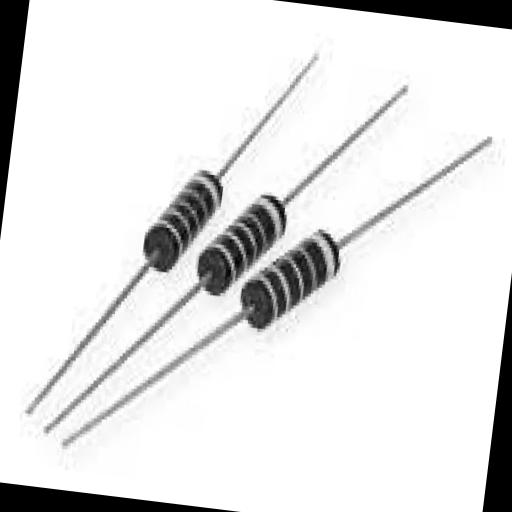RESISTOR: (72, 140, 236, 318), (231, 202, 376, 381), (175, 171, 310, 324)
